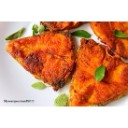seerfish: (74, 35, 128, 105), (5, 32, 71, 89)
